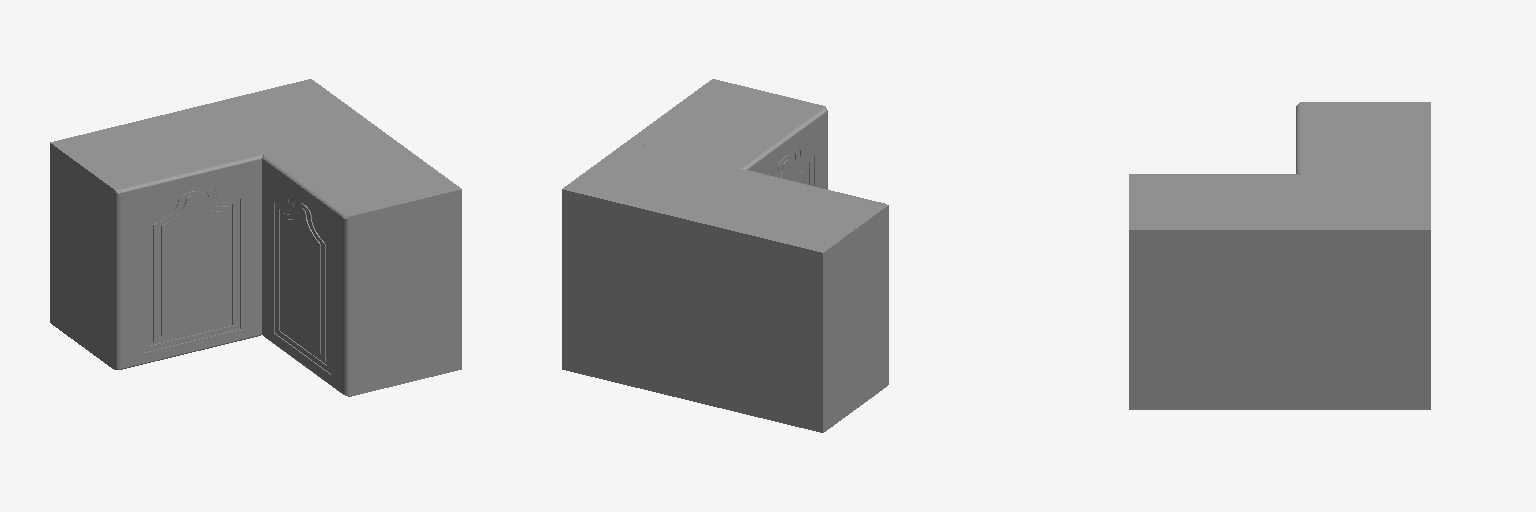
The model's file is corner-base-unit-750.obj.
3 renders of one model, left to right at view 1: azimuth 30°, elevation 25°; view 2: azimuth 150°, elevation 25°; view 3: azimuth 270°, elevation 25°, orthographic.
Visible parts, largest first — view 1: Cube.003_Cube.008, Cube.005, Cube.004_Cube.000, Cube.002_Cube.004, Cube.001, Cube_Cube.002, Cube.006; view 2: Cube_Cube.002, Cube.006, Cube.002_Cube.004, Cube.001, Cube.004_Cube.000; view 3: Cube.001, Cube.006, Cube_Cube.002, Cube.005.
Boxes of the visible parts, <box> form: Cube.003_Cube.008: <box>115,154,262,369</box>; Cube.005: <box>348,188,461,396</box>; Cube.004_Cube.000: <box>262,154,348,396</box>; Cube.002_Cube.004: <box>50,142,117,369</box>; Cube.001: <box>264,126,459,214</box>; Cube_Cube.002: <box>54,106,262,188</box>; Cube.006: <box>199,79,375,153</box>; Cube_Cube.002: <box>675,169,884,431</box>; Cube.006: <box>562,142,738,396</box>; Cube.002_Cube.004: <box>820,205,887,432</box>; Cube.001: <box>627,80,823,168</box>; Cube.004_Cube.000: <box>741,106,827,189</box>; Cube.001: <box>1132,175,1300,409</box>; Cube.006: <box>1301,175,1430,409</box>; Cube_Cube.002: <box>1301,103,1430,174</box>; Cube.005: <box>1129,175,1131,409</box>.
Bounding box in the file's own units: 264 × 174 × 264.